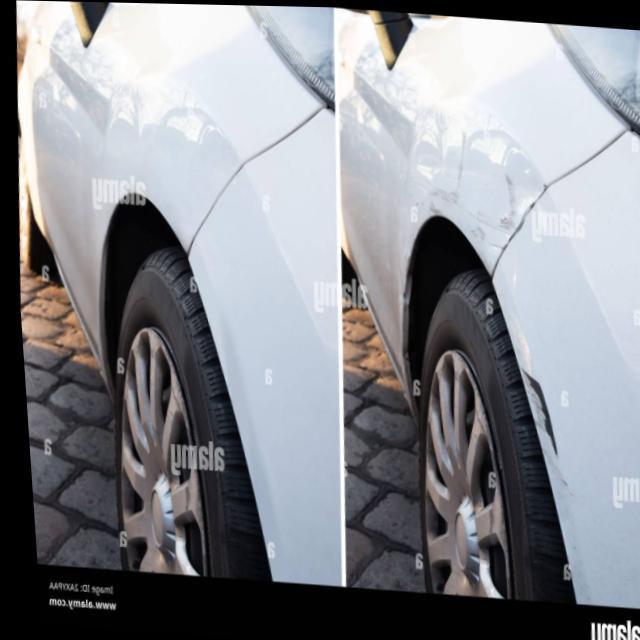Dent: (429, 144, 545, 243)
